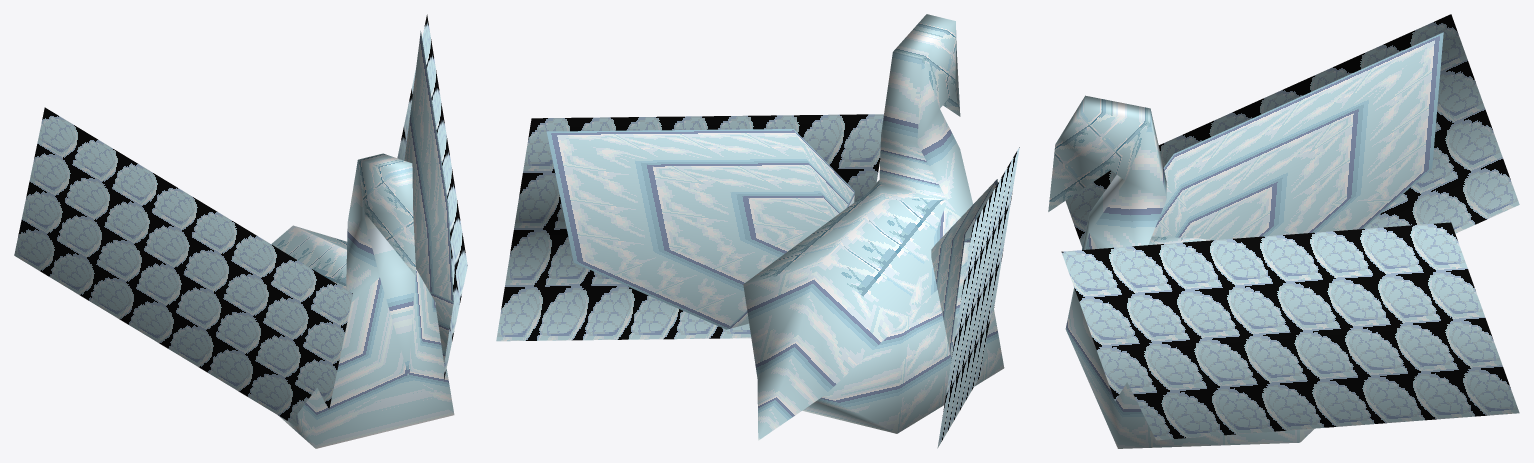
The model's file is 3157IMFY03_09.gltf.
3 views of the same model, side by side, from view 1: azimuth 30°, elevation 25°; view 2: azimuth 150°, elevation 25°; view 3: azimuth 270°, elevation 25° (orthographic). The views are drawn at different scales.
Visible parts, largest first — view 1: 3157IMFY03_09; view 2: 3157IMFY03_09; view 3: 3157IMFY03_09.
Boxes of the visible parts, <box> form: 3157IMFY03_09: <box>14,14,467,448</box>; 3157IMFY03_09: <box>496,14,1019,448</box>; 3157IMFY03_09: <box>1048,14,1519,448</box>.
Bounding box in the file's own units: 1.44 × 0.9973 × 1.38.
Materials: 3 (3 with a texture image).
